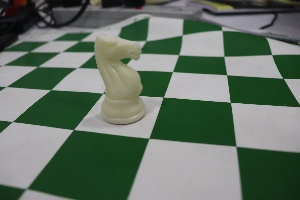white_horse: (81, 26, 152, 134)
